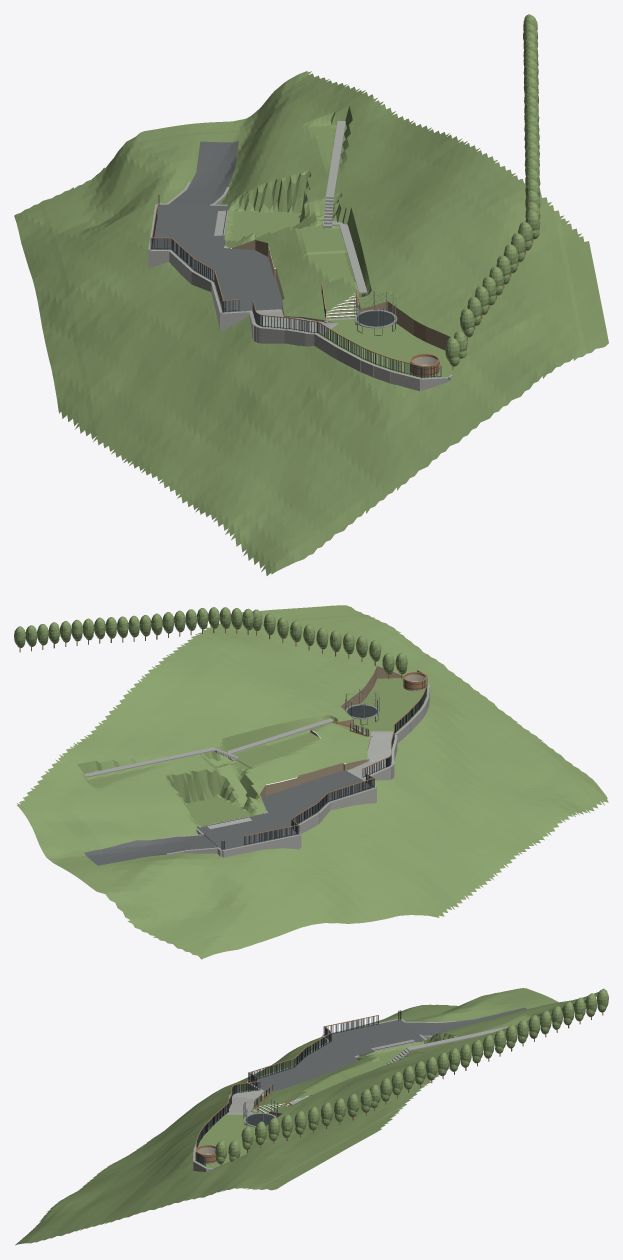
The model's file is scheme-j-siteworks.glb.
3 renders of one model, top to bottom at view 1: azimuth 30°, elevation 25°; view 2: azimuth 150°, elevation 25°; view 3: azimuth 330°, elevation 25°, orthographic. The views are drawn at different scales.
Parts seen in each view (by area): view 1: siteworks_green, siteworks_asphalt, siteworks_concrete, siteworks_dark, siteworks_earth, siteworks_timber; view 2: siteworks_green, siteworks_asphalt, siteworks_concrete, siteworks_dark, siteworks_earth, siteworks_timber; view 3: siteworks_green, siteworks_asphalt, siteworks_dark, siteworks_concrete, siteworks_timber.
Part boxes in pixels (bbox=[...]): siteworks_green: bbox=[14, 14, 608, 575]; siteworks_asphalt: bbox=[151, 141, 282, 312]; siteworks_concrete: bbox=[148, 121, 452, 391]; siteworks_dark: bbox=[150, 195, 441, 377]; siteworks_earth: bbox=[228, 204, 467, 350]; siteworks_timber: bbox=[151, 193, 533, 376]; siteworks_green: bbox=[14, 605, 608, 959]; siteworks_asphalt: bbox=[84, 770, 374, 865]; siteworks_concrete: bbox=[84, 681, 429, 857]; siteworks_dark: bbox=[207, 671, 427, 849]; siteworks_earth: bbox=[196, 666, 403, 827]; siteworks_timber: bbox=[19, 628, 427, 840]; siteworks_green: bbox=[15, 988, 608, 1245]; siteworks_asphalt: bbox=[249, 1007, 526, 1092]; siteworks_dark: bbox=[195, 1011, 415, 1166]; siteworks_concrete: bbox=[193, 1018, 514, 1171]; siteworks_timber: bbox=[195, 1010, 603, 1164].
Bounding box in the file's own units: 49.64 × 25.24 × 66.38.
